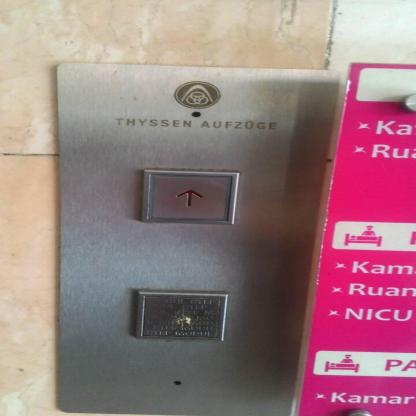text: (133, 290, 229, 341)
up: (139, 166, 241, 226)
